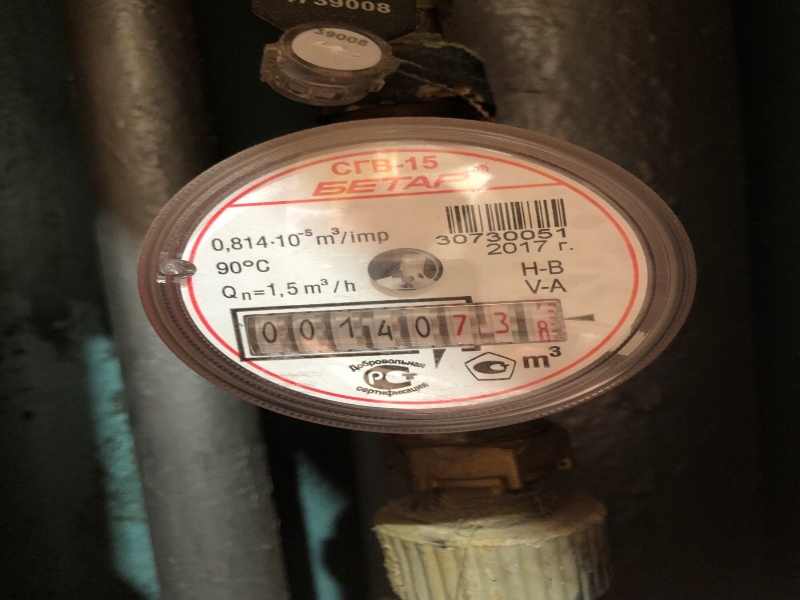meter: (225, 303, 577, 346)
